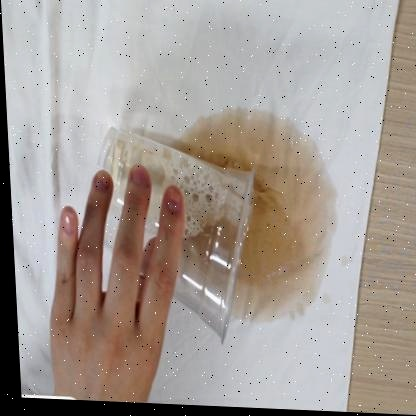coffee: (256, 171, 325, 295), (203, 121, 291, 157)
